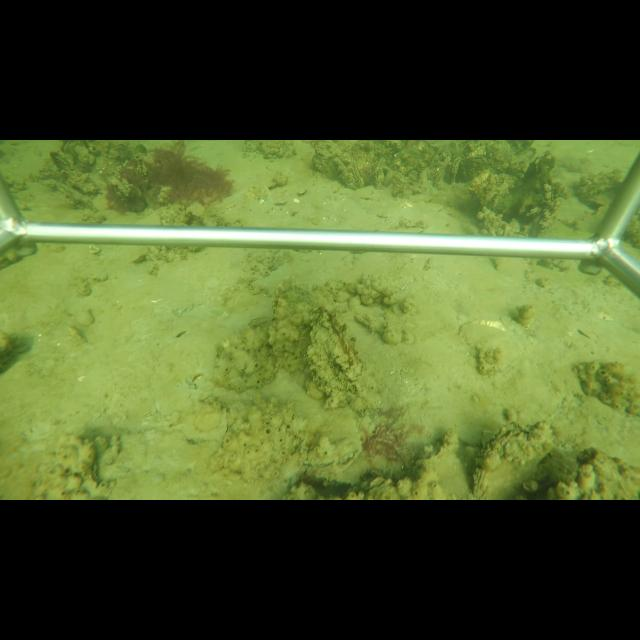Oyster-Closed: (472, 422, 558, 500), (307, 307, 371, 403), (265, 275, 325, 374), (50, 183, 93, 209), (349, 158, 369, 187), (373, 157, 386, 191), (449, 156, 462, 184)
